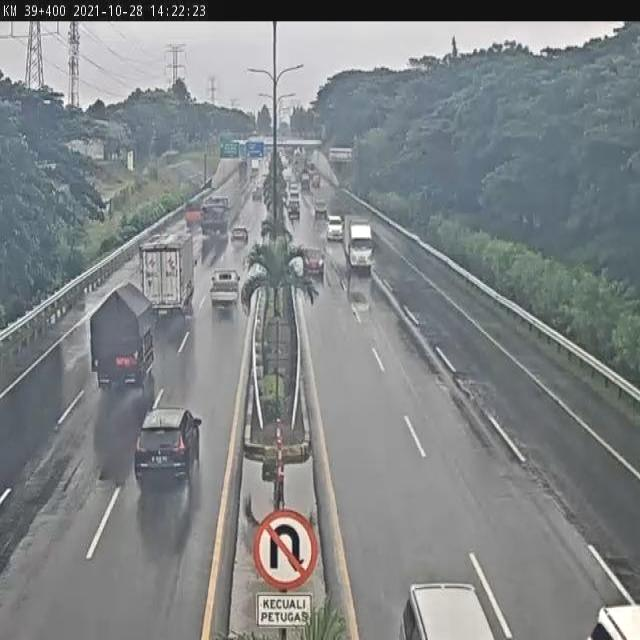Car: (389, 545, 493, 640), (133, 394, 205, 521), (292, 235, 329, 304), (229, 212, 253, 266)
Truck: (86, 276, 157, 397), (140, 218, 198, 324), (346, 201, 382, 287), (204, 254, 242, 323), (183, 172, 210, 235)
